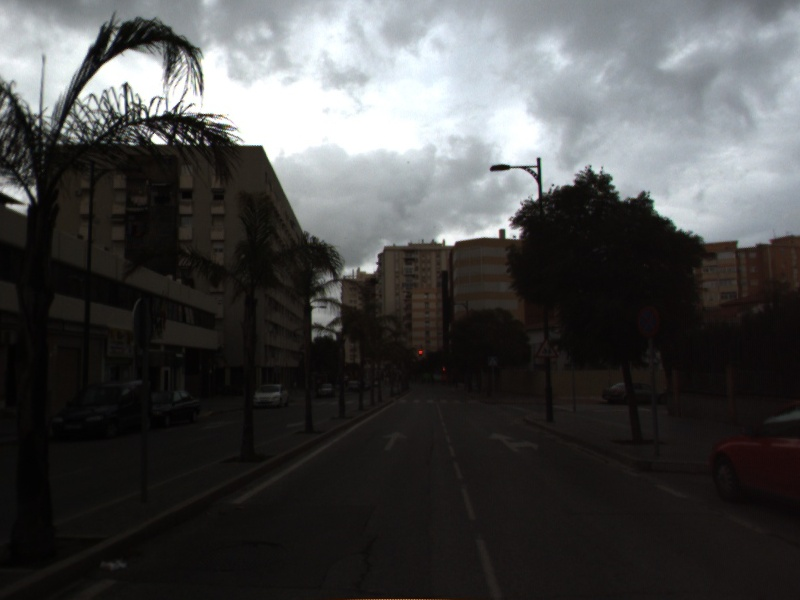STRAIGHT: (380, 429, 411, 453)
STRAIGHT_RIGHT: (485, 429, 540, 455)
